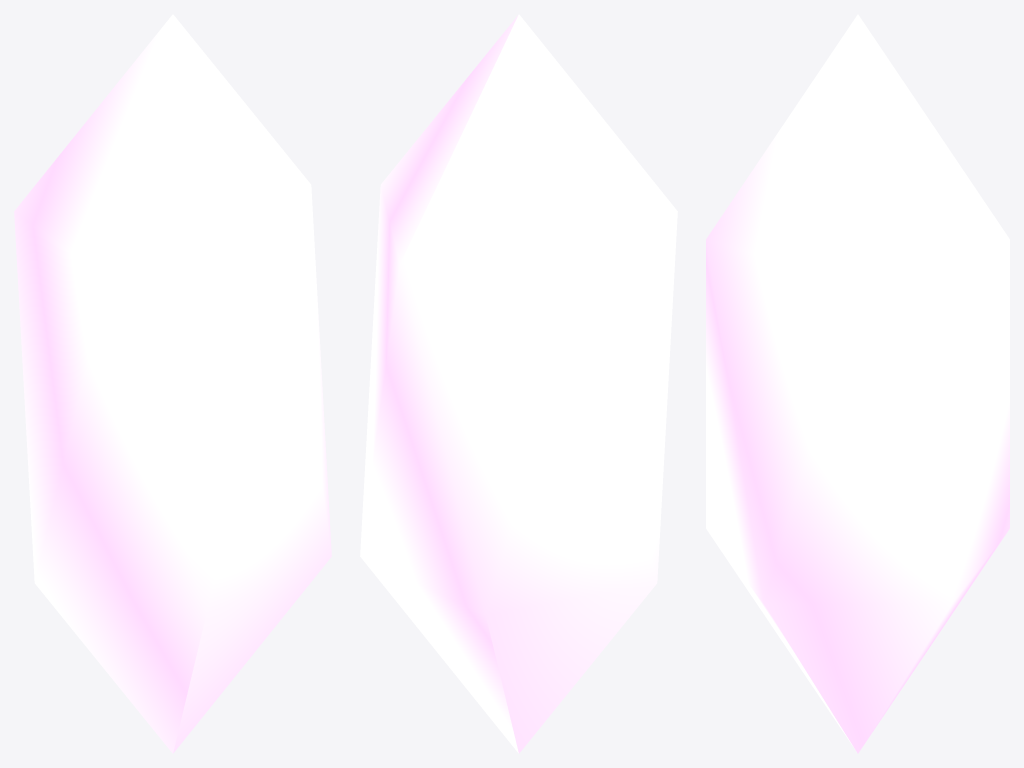
The model's file is VFX_Arcane_Missile.fbx.
3 renders of one model, left to right at view 1: azimuth 30°, elevation 25°; view 2: azimuth 150°, elevation 25°; view 3: azimuth 270°, elevation 25°, orthographic.
Parts seen in each view (by area): view 1: VFX_Arcane_Missile; view 2: VFX_Arcane_Missile; view 3: VFX_Arcane_Missile.
Part boxes in pixels (<box>): VFX_Arcane_Missile: <box>14,14,331,753</box>; VFX_Arcane_Missile: <box>360,14,677,753</box>; VFX_Arcane_Missile: <box>706,14,1009,753</box>.
Size of the model in its own units: 0.1753 by 0.448 by 0.1667.
